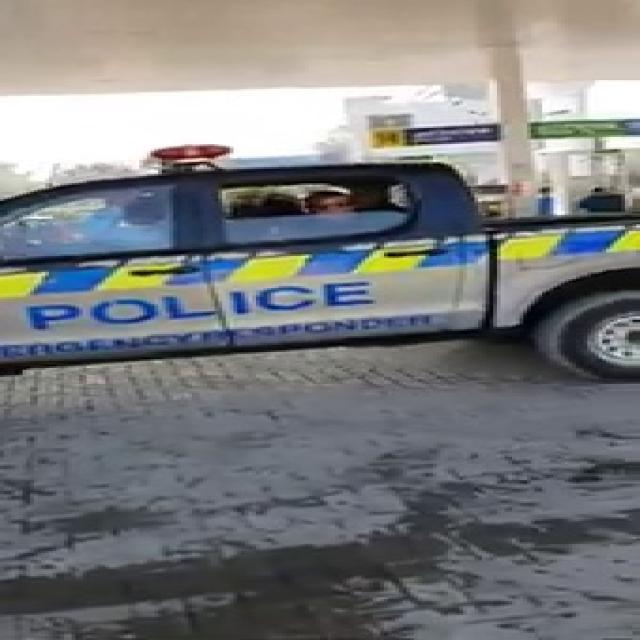police: (0, 147, 640, 336)
